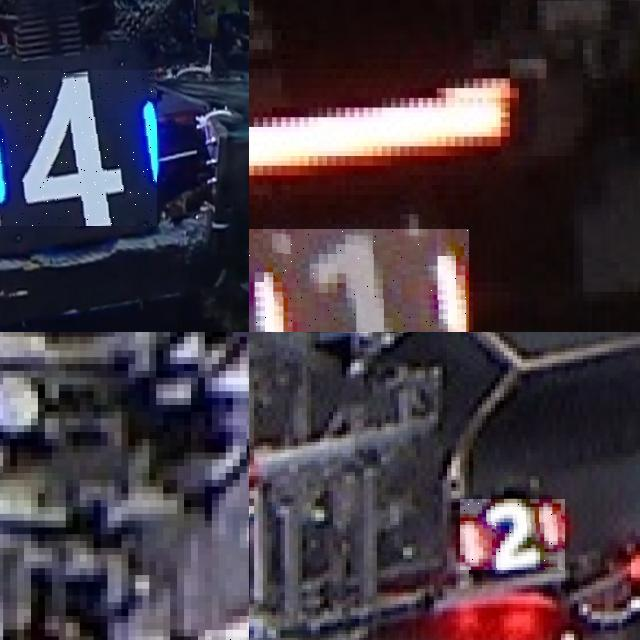B4: (0, 70, 157, 225)
R1: (249, 229, 468, 332)
R2: (460, 499, 565, 570)
